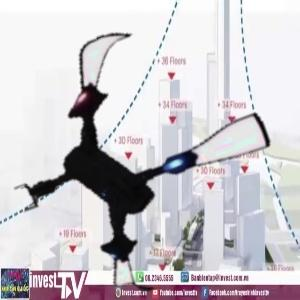drone: (8, 24, 278, 294)
